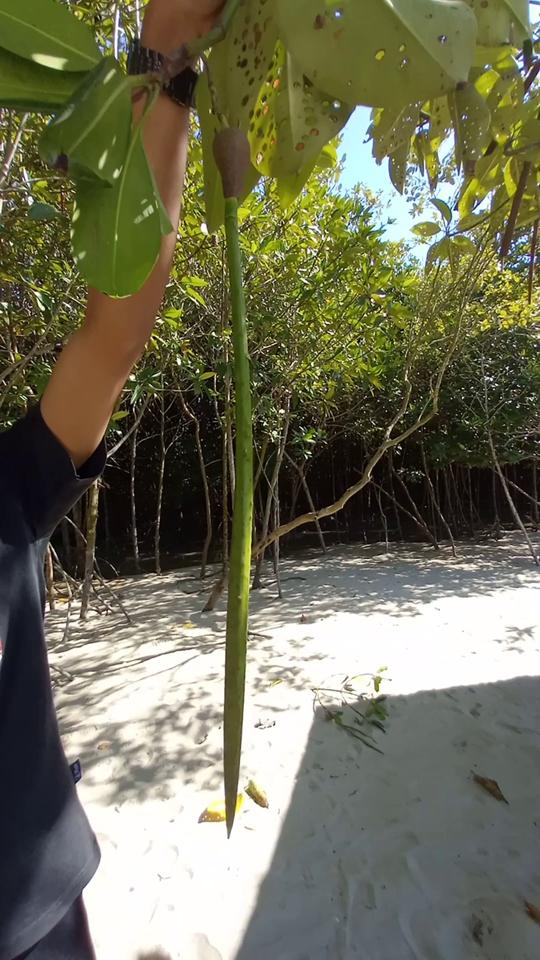setengah matang: (190, 112, 260, 845)
